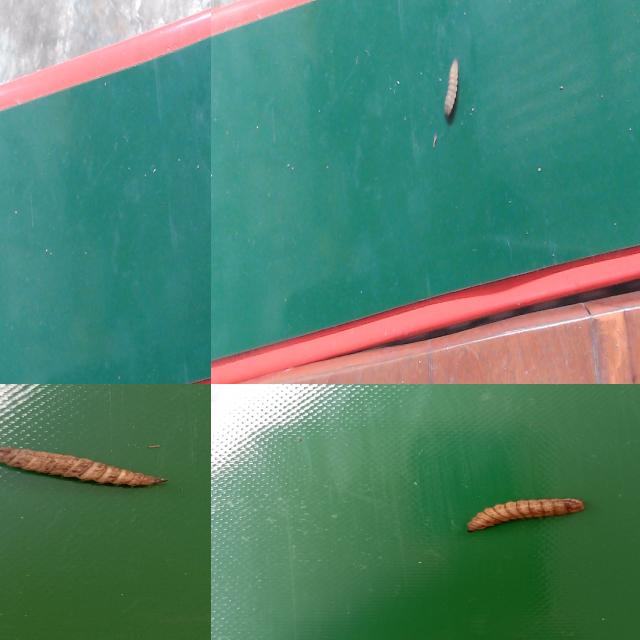Maggot: (0, 448, 164, 490), (467, 498, 587, 534), (442, 60, 461, 129)
